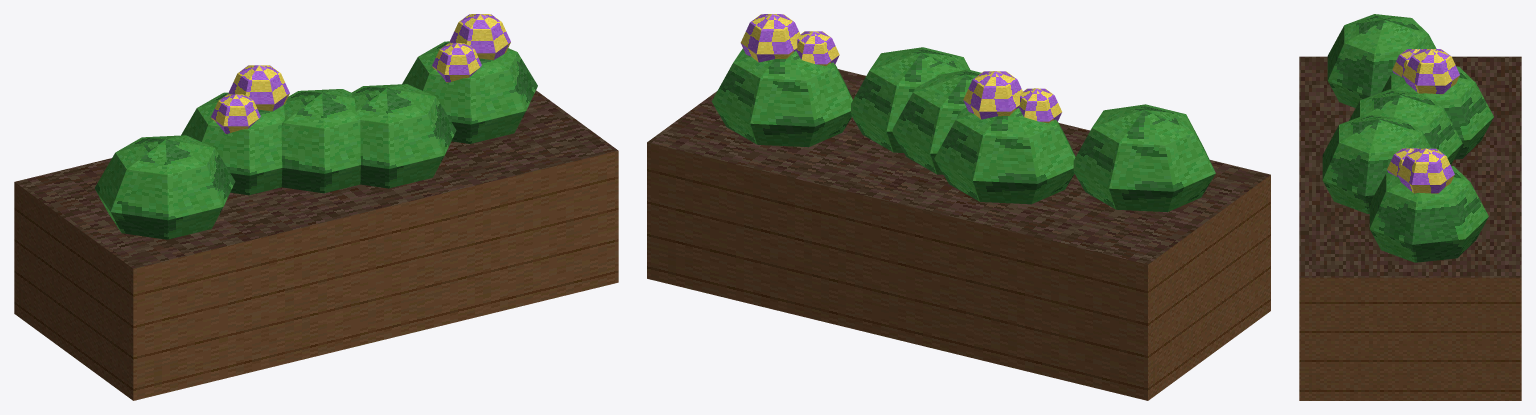
Rendered from canteiro_de_ervas.glb.
The picture shows the model from 3 angles, left to right: view 1: azimuth 30°, elevation 25°; view 2: azimuth 150°, elevation 25°; view 3: azimuth 270°, elevation 25°; orthographic projection. The views are drawn at different scales.
Parts seen in each view (by area): view 1: canteiro_de_ervas; view 2: canteiro_de_ervas; view 3: canteiro_de_ervas.
Part boxes in pixels (x1=…): canteiro_de_ervas: x1=14, y1=14, x2=618, y2=400; canteiro_de_ervas: x1=647, y1=14, x2=1270, y2=400; canteiro_de_ervas: x1=1299, y1=14, x2=1521, y2=400.
Size of the model in its own units: 2 by 0.93 by 0.85.
1 material, 1 textured.
